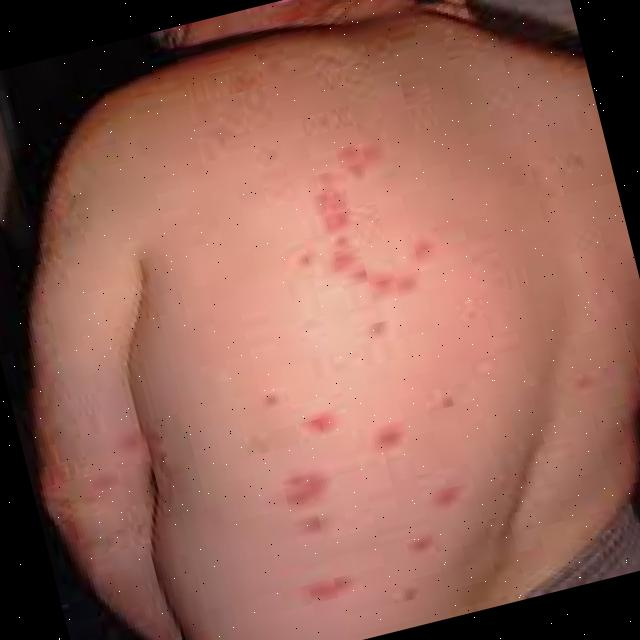tahta-kurusu: (230, 129, 450, 347), (278, 554, 392, 609), (254, 460, 356, 520), (400, 465, 504, 522), (362, 412, 423, 463), (276, 503, 348, 546), (301, 401, 347, 442)
